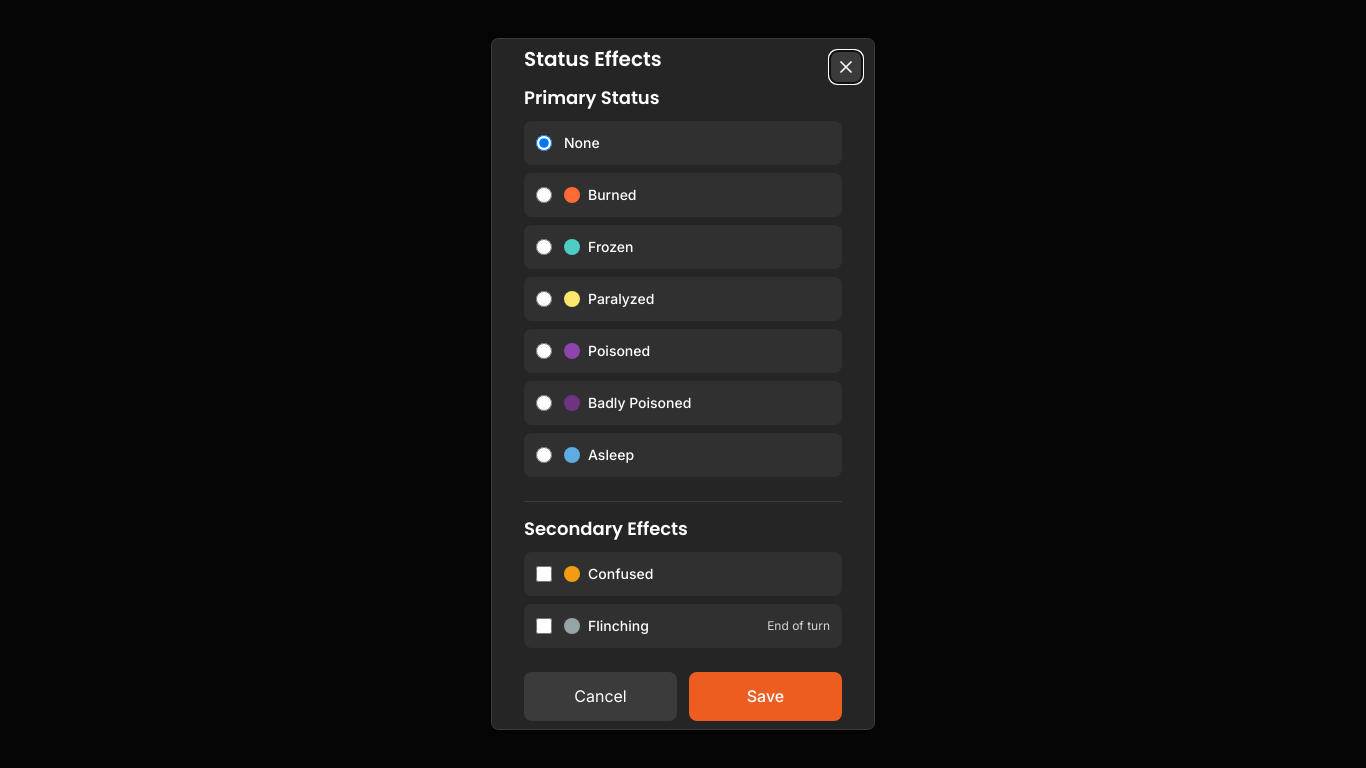
Test case: StatusSelector › Primary Status Selection › allows selecting different primary status
This screenshot has width=1366, height=768.
Click the radio button showing "burned" at (544, 195), box left=536, top=187, right=552, bottom=203
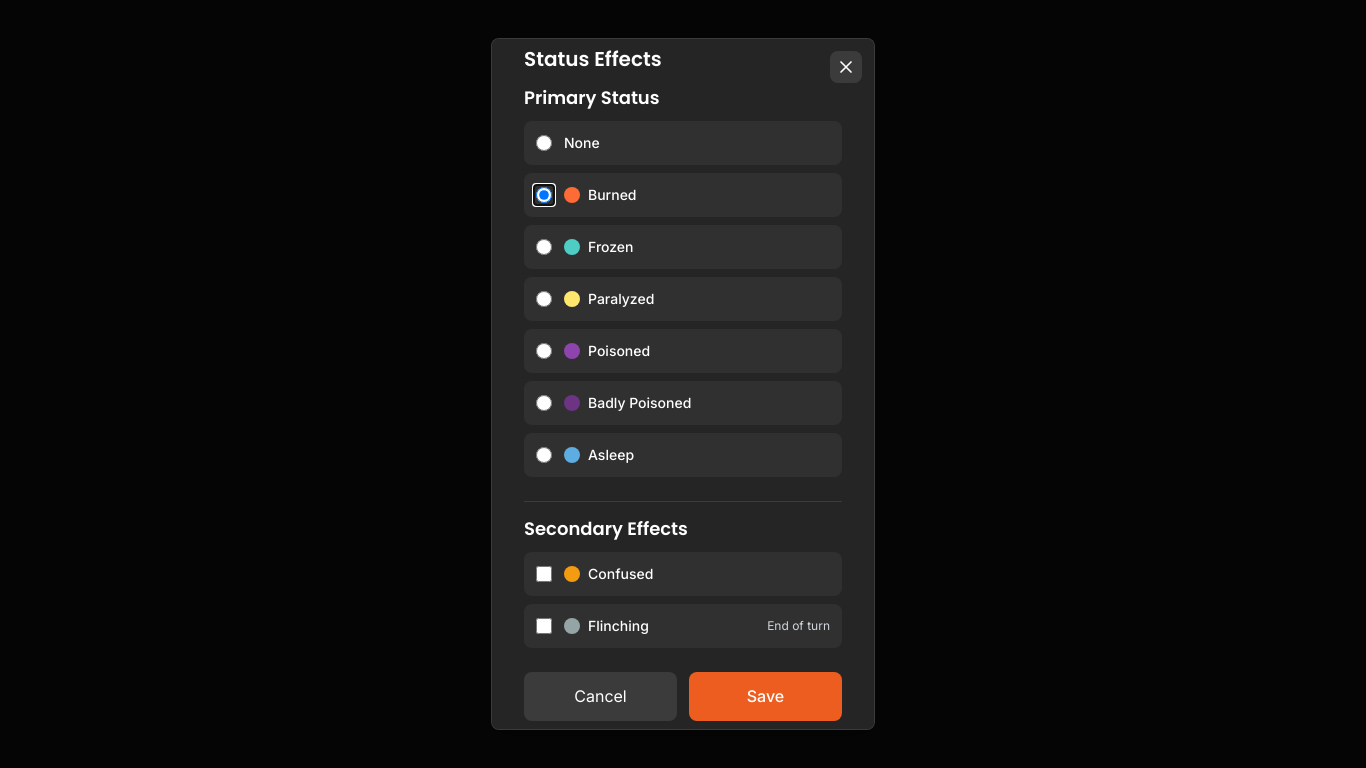
Result: the radio button showing "burned" is checked at left=536, top=187, right=552, bottom=203
Result: the radio button showing "none" is not checked at left=536, top=135, right=552, bottom=151
